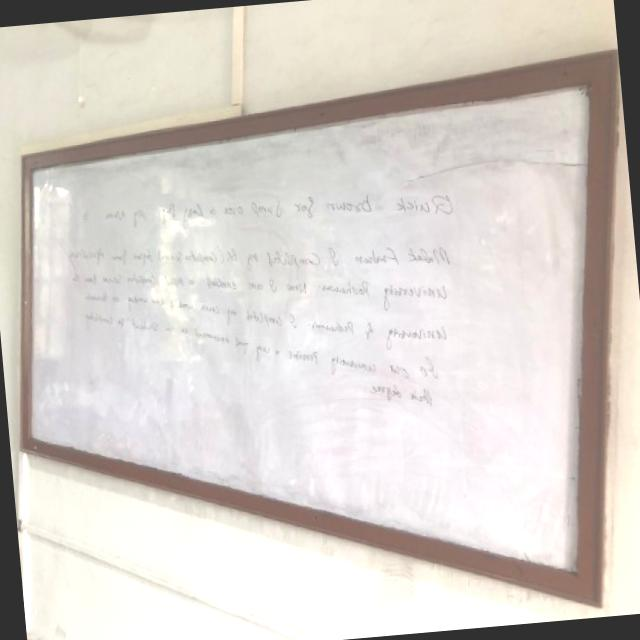White-board: (23, 63, 603, 588)
